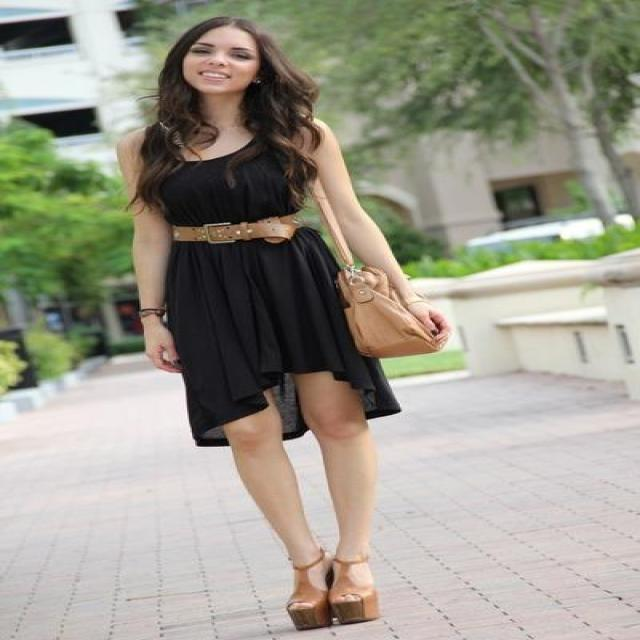bag: (333, 238, 445, 357)
dress: (152, 130, 400, 446)
shoe: (286, 548, 376, 625)
